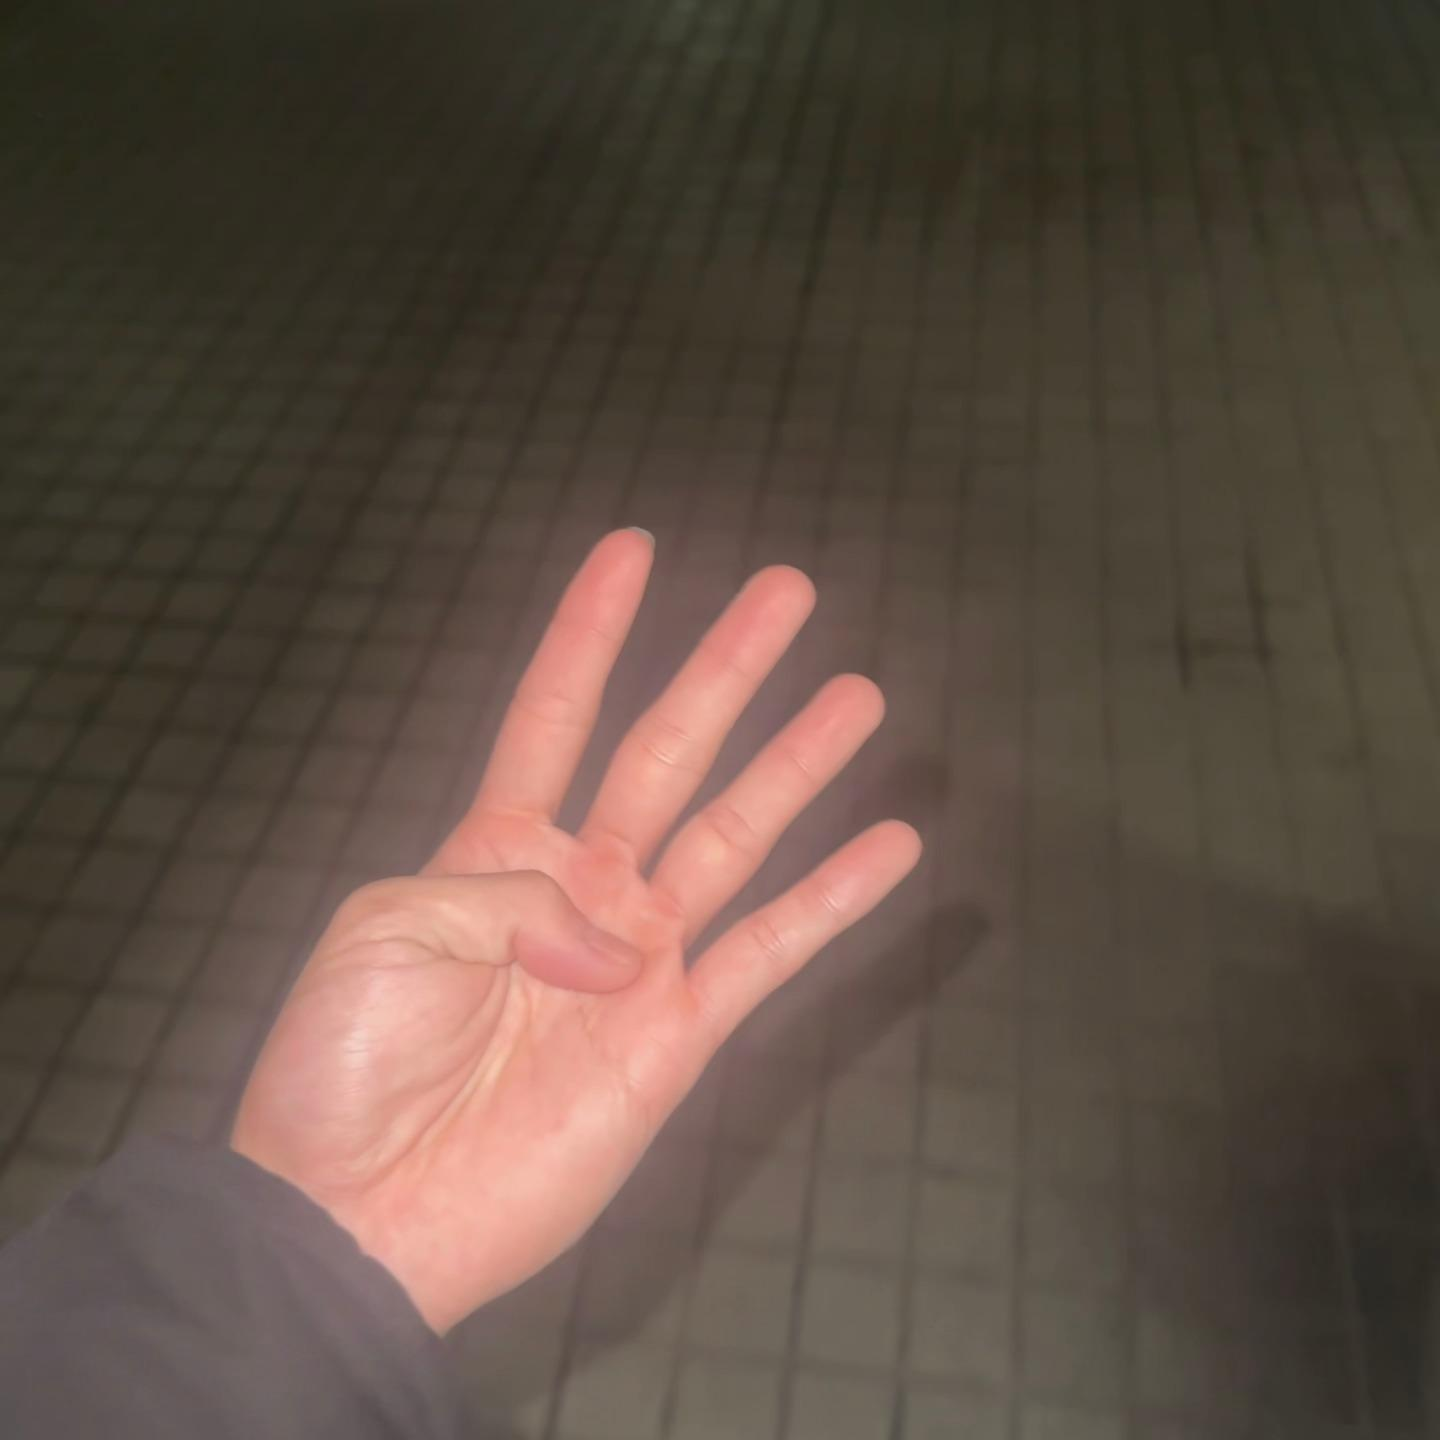without_gloves: (161, 353, 1050, 1364)
